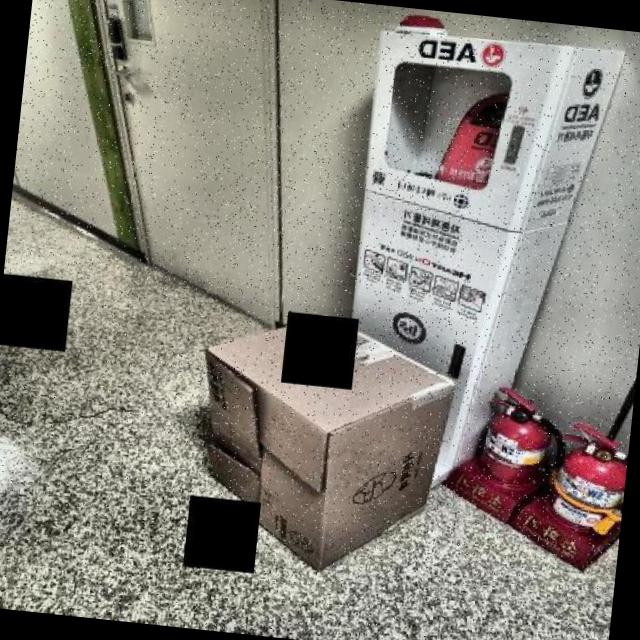box: (163, 292, 478, 586)
